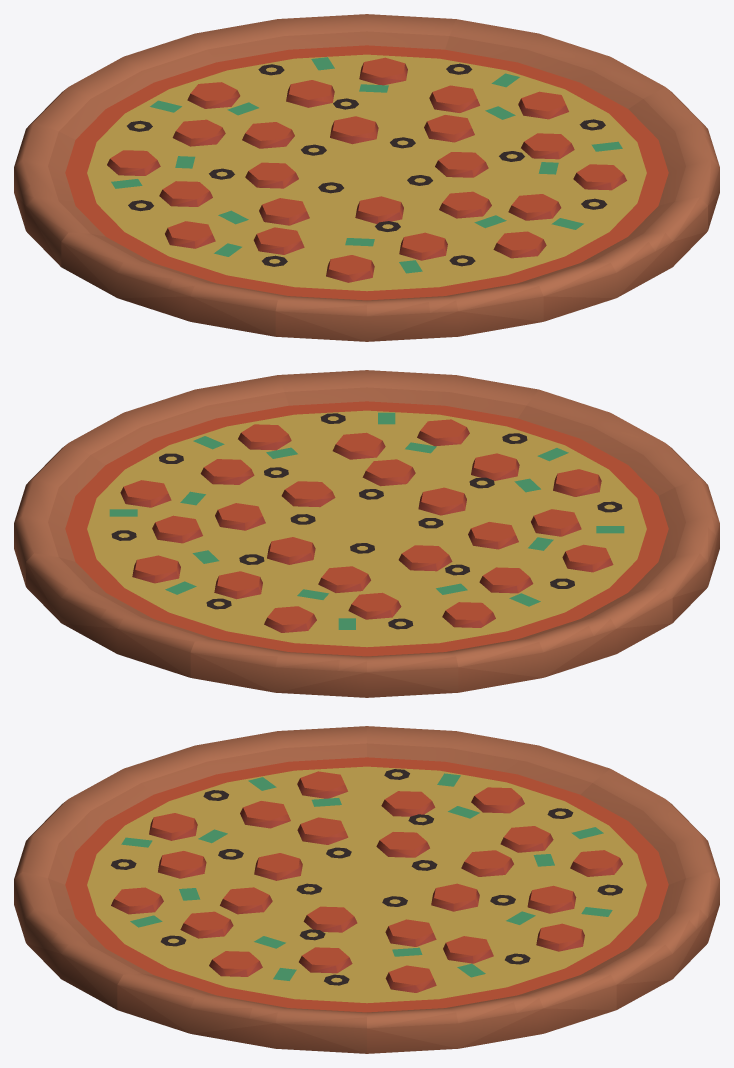
Rendered from food_pizza.glb.
3 views of the same model, one above another, from view 1: azimuth 30°, elevation 25°; view 2: azimuth 150°, elevation 25°; view 3: azimuth 270°, elevation 25° (orthographic).
Visible parts, largest first — view 1: food_pizza; view 2: food_pizza; view 3: food_pizza.
Boxes of the visible parts, bbox=[...] form: food_pizza: bbox=[14, 14, 719, 341]; food_pizza: bbox=[14, 370, 719, 697]; food_pizza: bbox=[14, 726, 719, 1053].
Bounding box in the file's own units: 0.8418 × 0.0435 × 0.8418.
